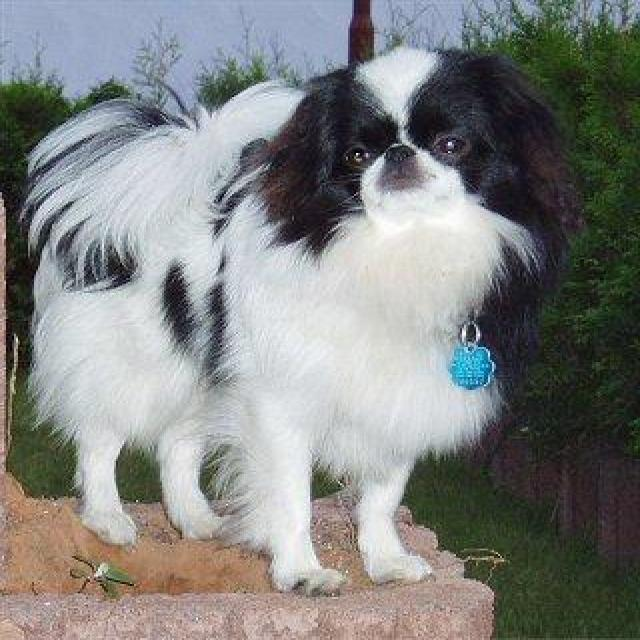husky: (14, 45, 580, 595)
